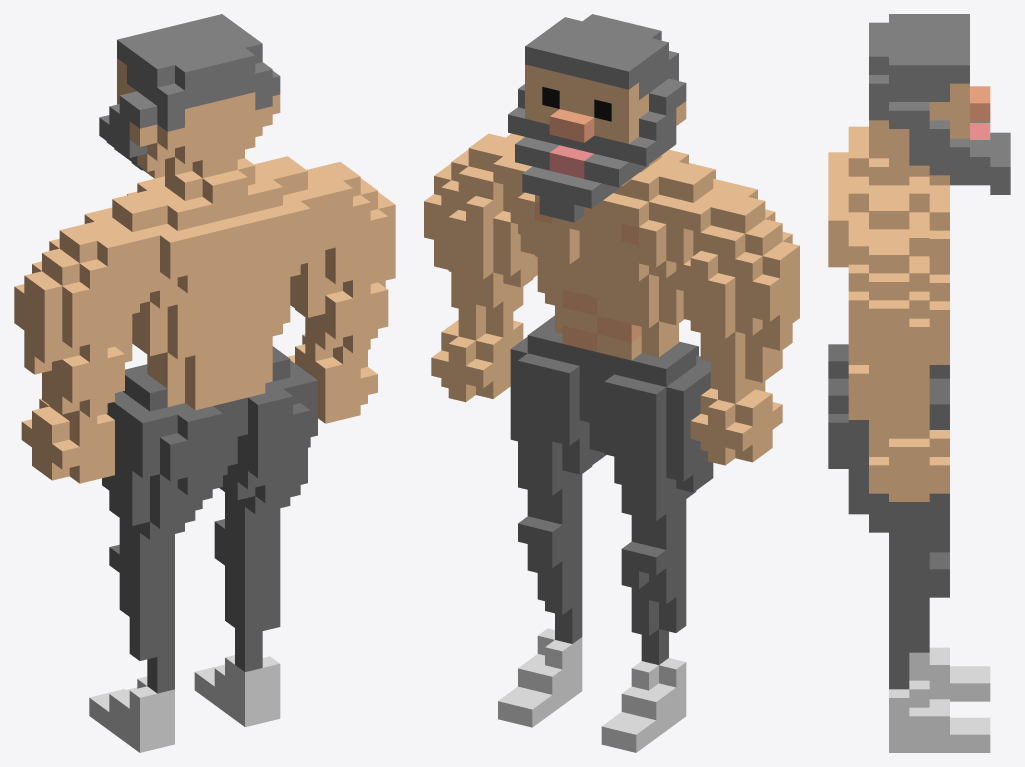
The model's file is gigaChad_main.obj.
3 renders of one model, left to right at view 1: azimuth 30°, elevation 25°; view 2: azimuth 150°, elevation 25°; view 3: azimuth 270°, elevation 25°, orthographic.
Size of the model in its own units: 2 by 3.7 by 0.9.
1 material, 1 textured.
